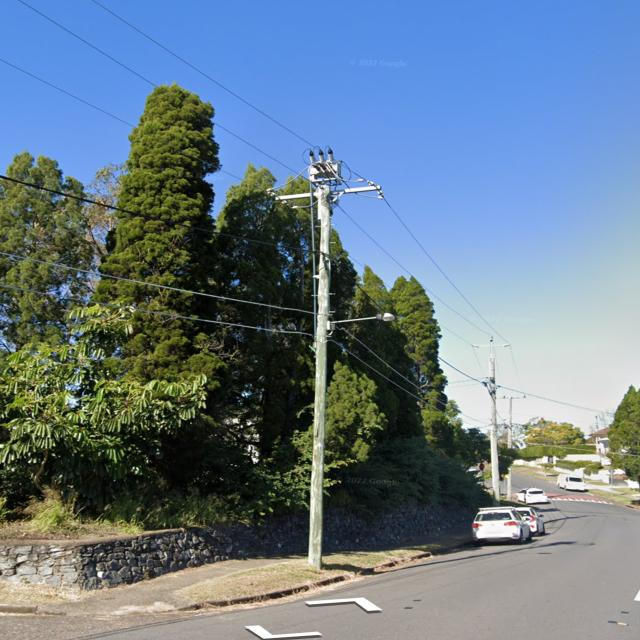HV-switch: (307, 147, 342, 185)
HV-transmission: (266, 180, 387, 206), (471, 335, 511, 348)
crossarm: (274, 185, 382, 202), (479, 344, 505, 348), (495, 397, 527, 399)
streetlight: (327, 310, 396, 326)
timber-pole: (306, 183, 332, 570), (488, 339, 501, 505), (506, 396, 512, 502)
